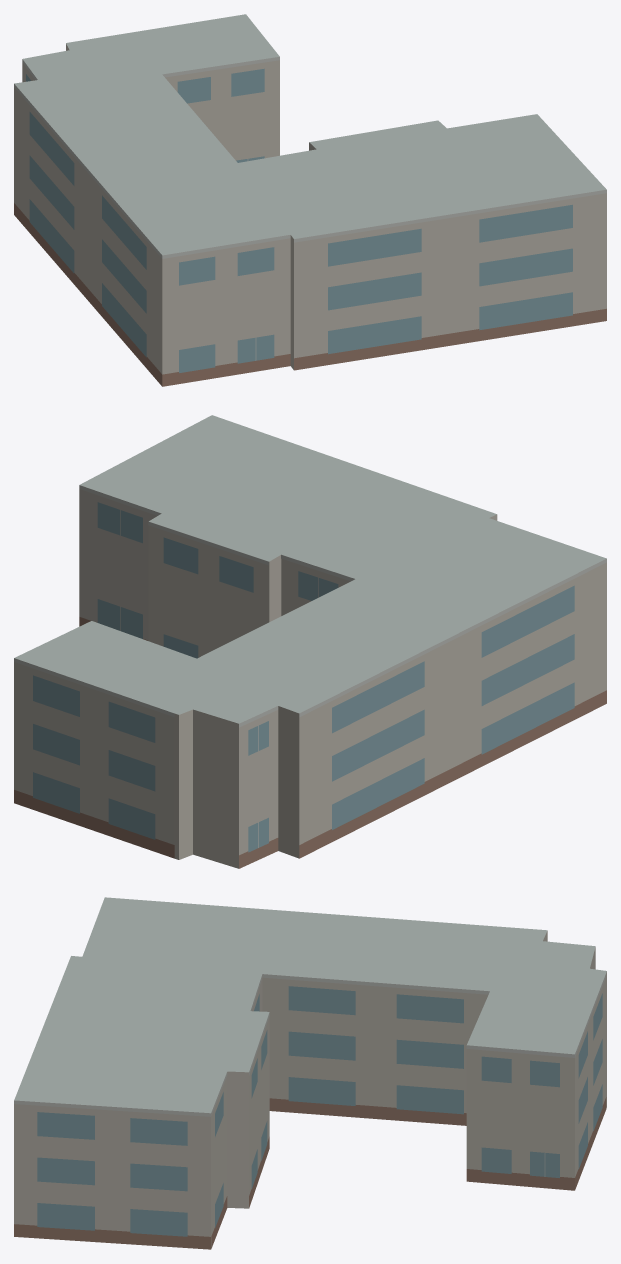
File: survey-upis-33001935.glb
3 renders of one model, top to bottom at view 1: azimuth 30°, elevation 25°; view 2: azimuth 150°, elevation 25°; view 3: azimuth 270°, elevation 25°, orthographic. The views are drawn at different scales.
Parts seen in each view (by area): view 1: survey-upis-33001935.tmp; view 2: survey-upis-33001935.tmp; view 3: survey-upis-33001935.tmp.
Boxes of the visible parts, box(x1,y1,x2,y2) form: survey-upis-33001935.tmp: box(14, 14, 606, 386); survey-upis-33001935.tmp: box(14, 415, 606, 868); survey-upis-33001935.tmp: box(14, 897, 606, 1249).
Bounding box in the file's own units: 31.08 × 9.15 × 36.06.
